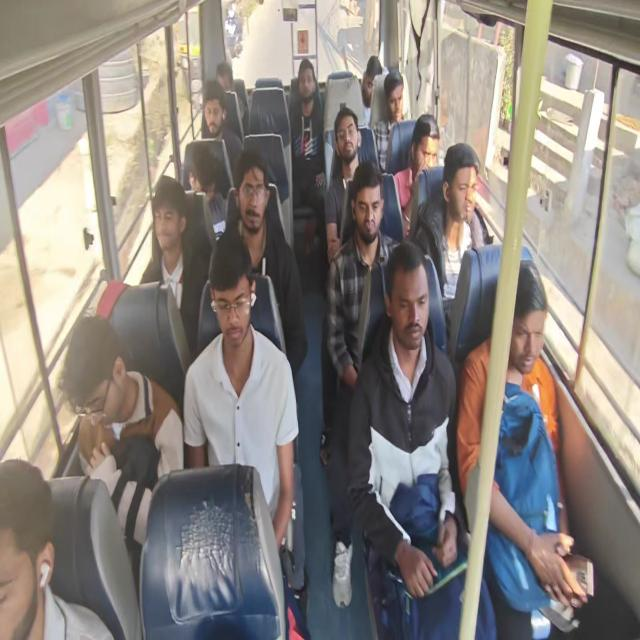person: (0, 452, 49, 638), (61, 312, 136, 423), (203, 240, 259, 351), (500, 277, 546, 380), (386, 249, 430, 353), (152, 181, 188, 262), (443, 149, 479, 224), (233, 150, 265, 228), (352, 177, 382, 247), (185, 152, 221, 207), (290, 59, 320, 113), (410, 124, 440, 177), (200, 80, 226, 131), (336, 103, 358, 162), (384, 71, 407, 120), (357, 59, 382, 96), (213, 63, 235, 97)
